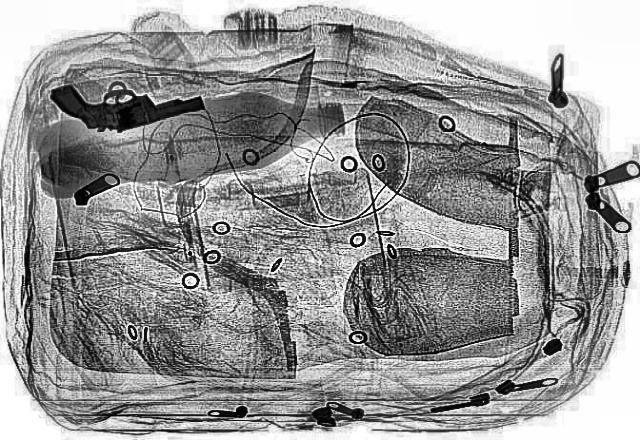Gun: (45, 77, 209, 135)
